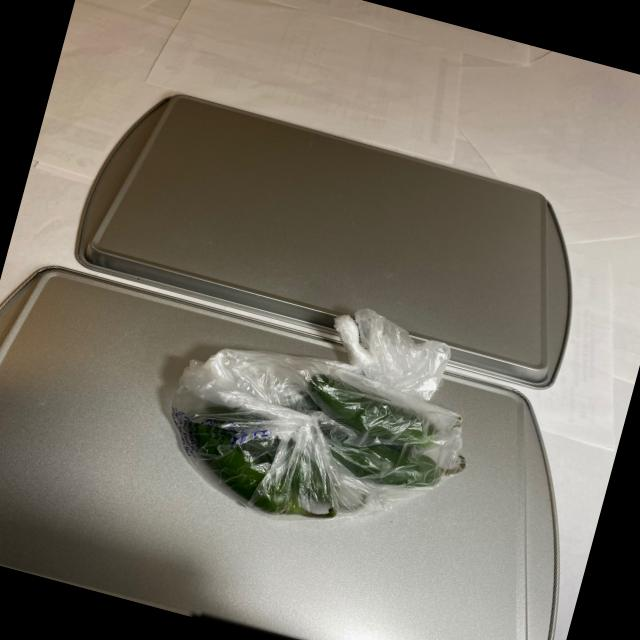chilli: (144, 320, 489, 566)
